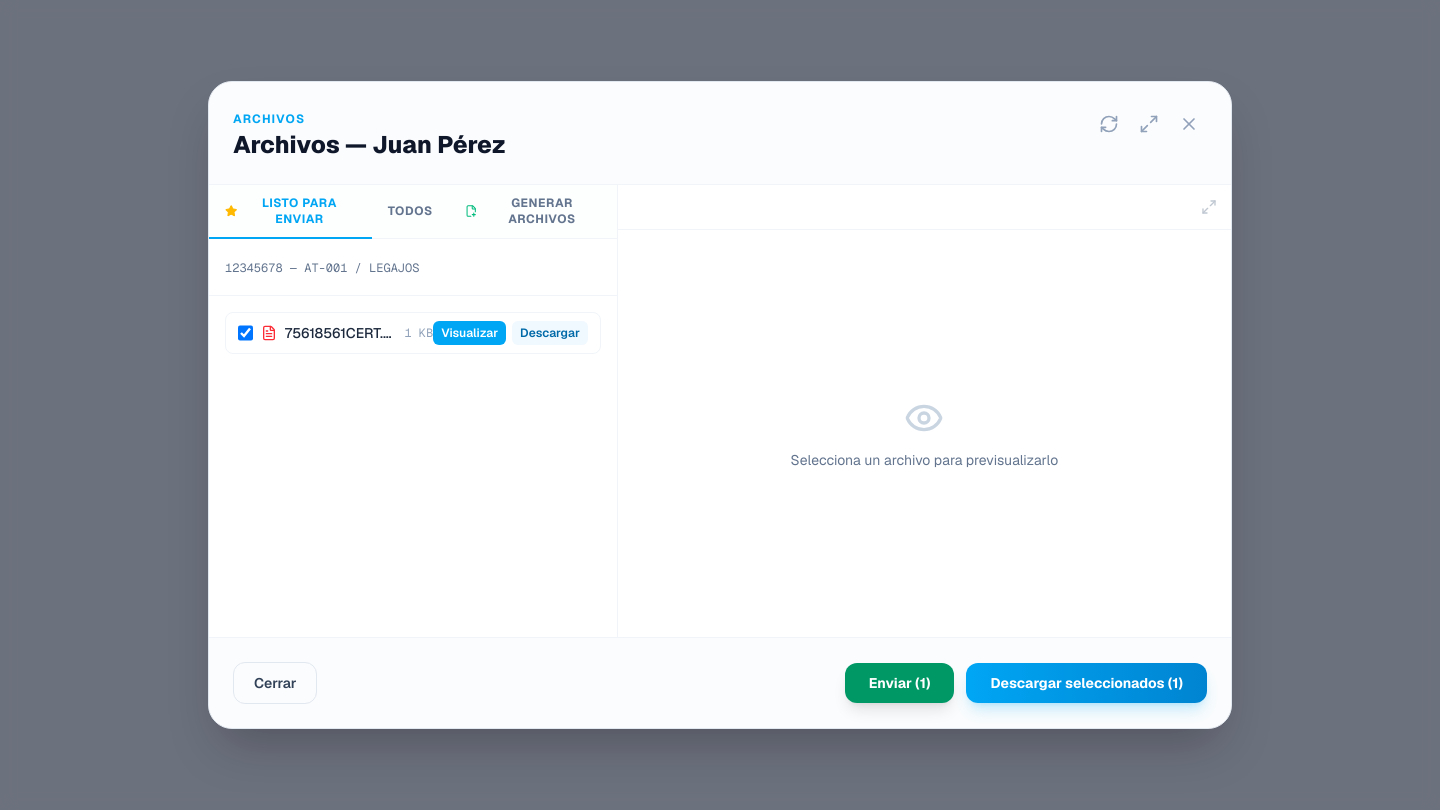
it: FilesModal › clicking the "Todos" tab hides the ready pane and shows the explorer (and vice versa)
This screenshot has width=1440, height=810.
Expected: the text "75618561CERT.pdf" is shown, top-left (285, 323), bottom-right (396, 343)
Click the tab "Todos" at (410, 212), box top-left (372, 185), bottom-right (449, 239)
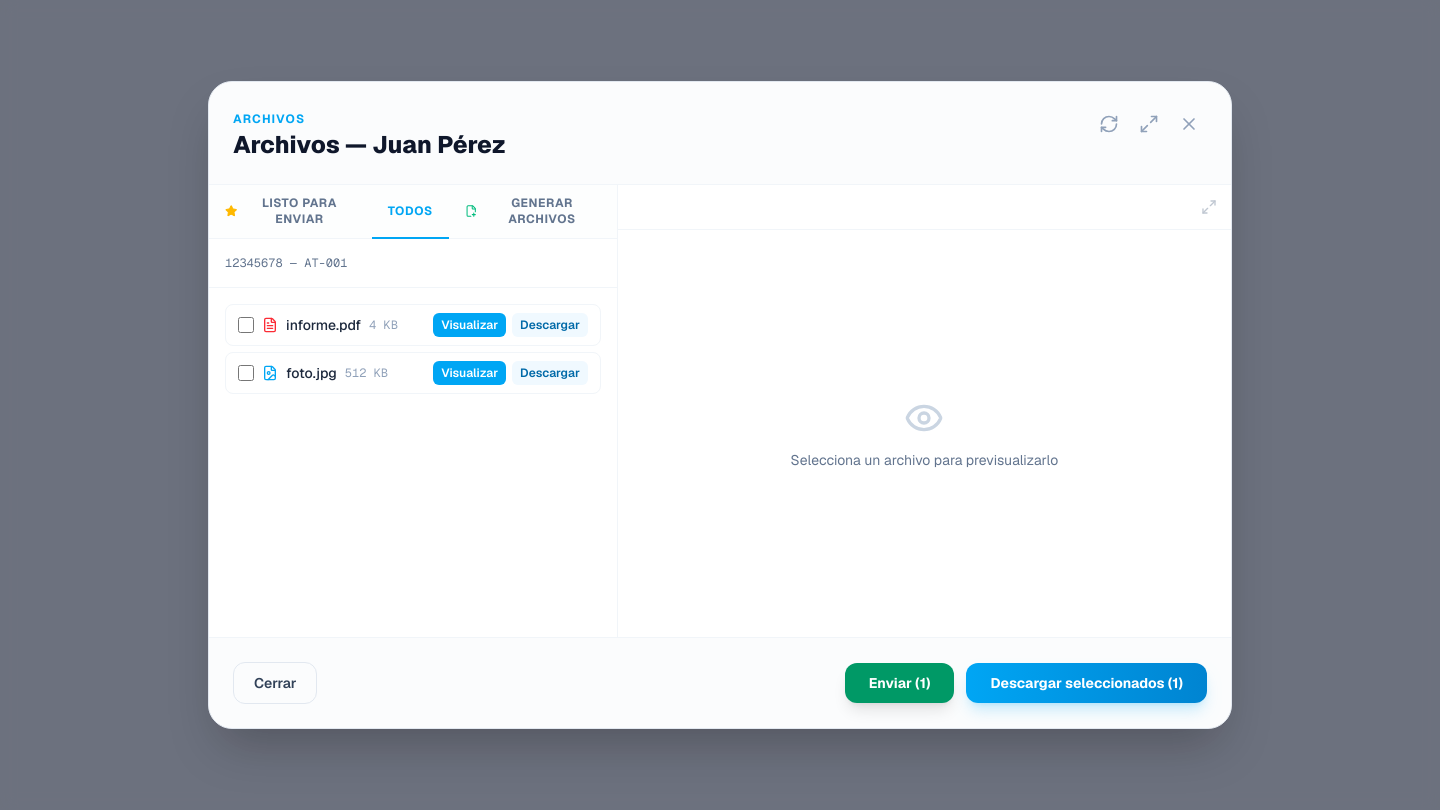
Expected: the text "informe.pdf" is shown, top-left (286, 315), bottom-right (361, 335)
Expected: the text "75618561CERT.pdf" is gone
# Switch back to Ready: ready pane returns.
Click the tab "Listo para enviar" at (290, 212), box top-left (209, 185), bottom-right (372, 239)
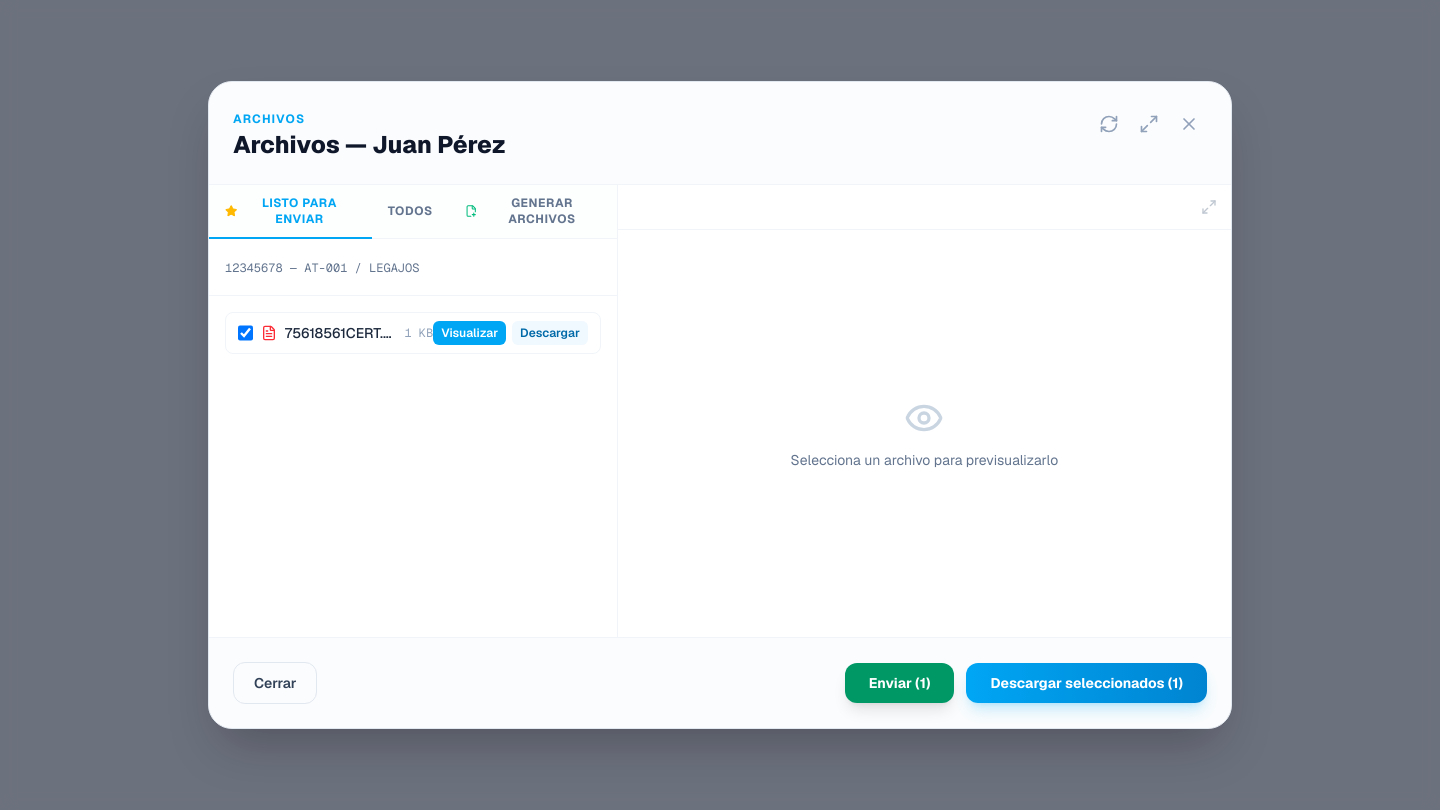
Expected: the text "75618561CERT.pdf" is shown, top-left (285, 323), bottom-right (396, 343)
Expected: the text "informe.pdf" is gone
